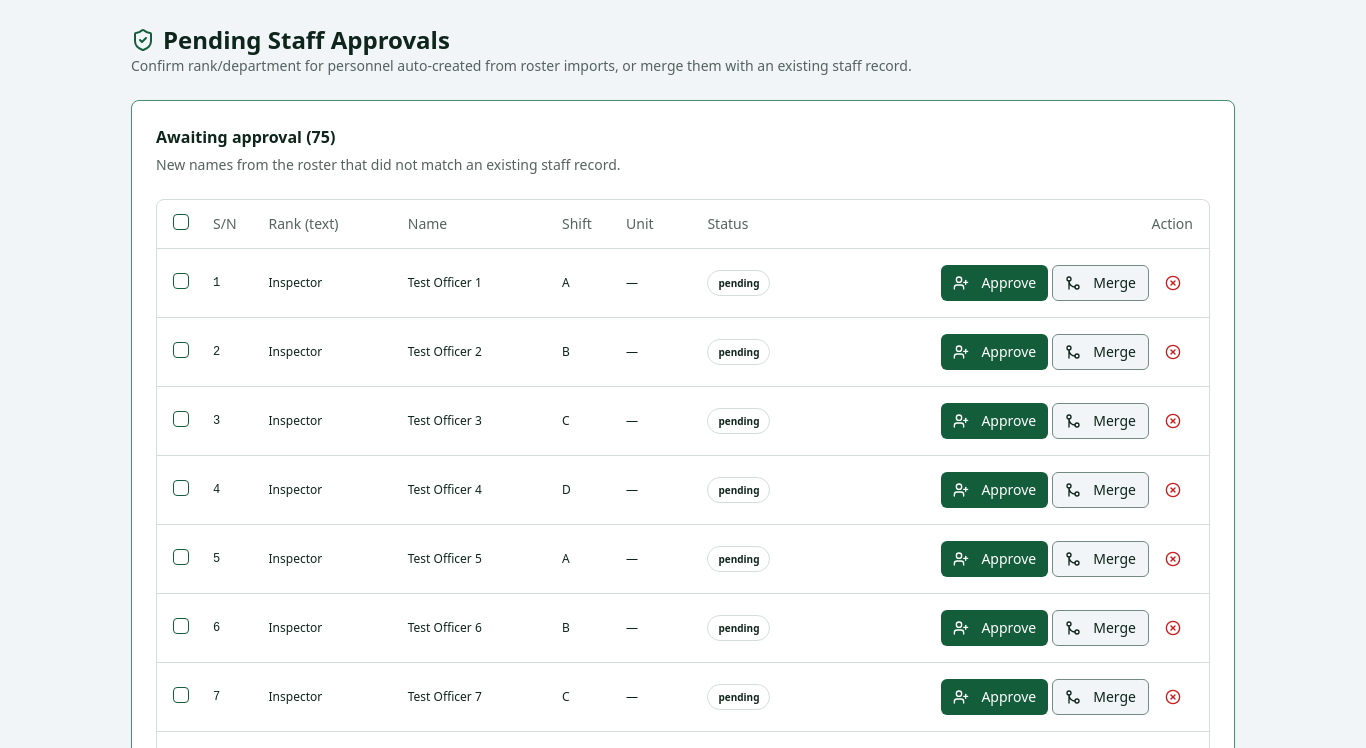
Test case: PendingStaffApprovals — bulk actions › select-all toggles every visible pending row and Clear empties it
The image size is (1366, 748).
expect the text "Test Officer 1" is shown: met, box [392, 248, 546, 317]
Click the checkbox named "select all". click: coordinates (181, 222)
box: [173, 214, 189, 230]
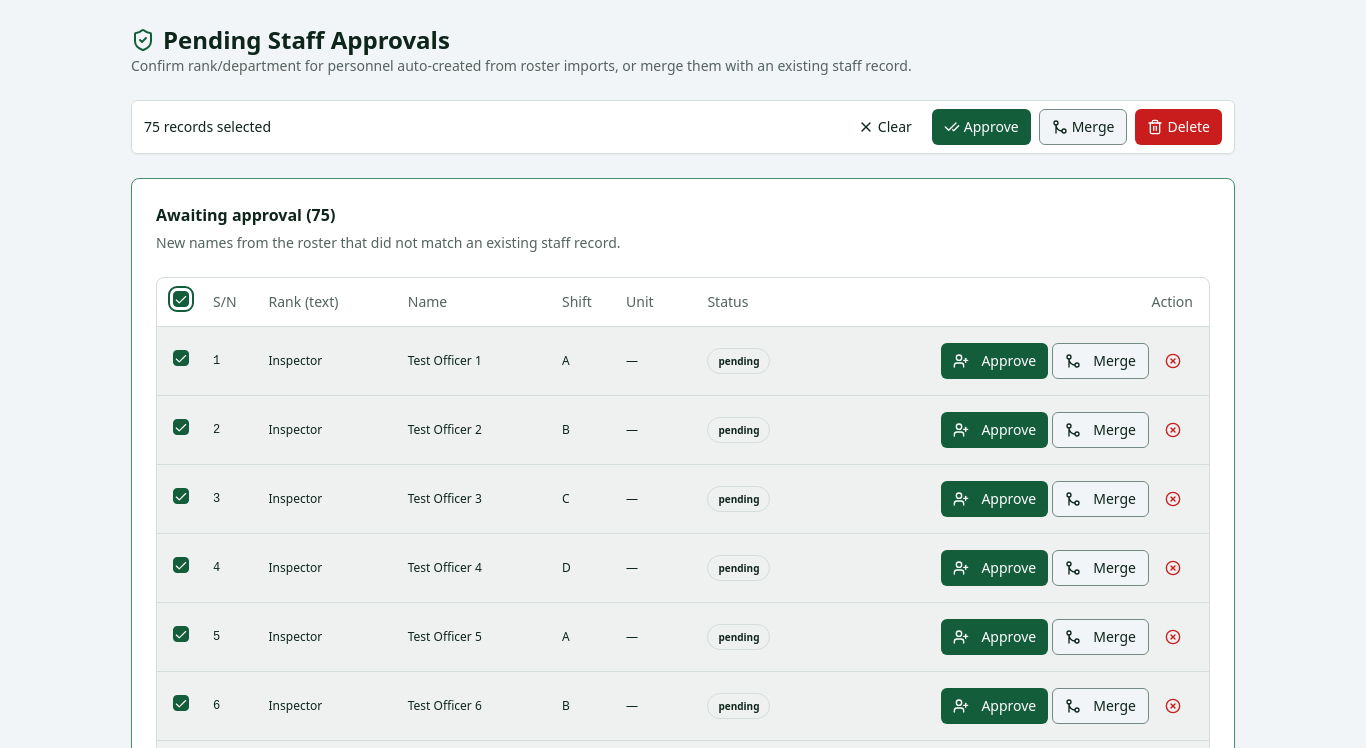
Click the button "Clear". click: coordinates (885, 127)
box: [846, 109, 924, 145]
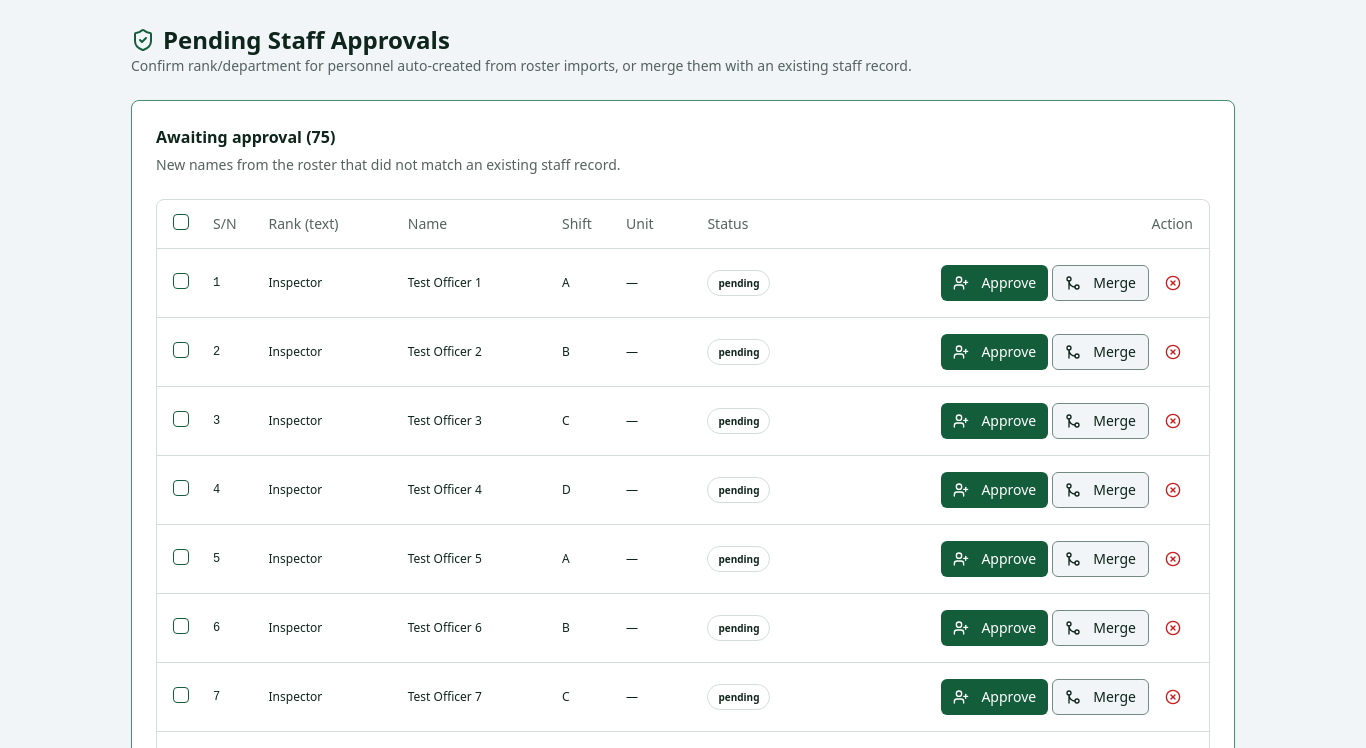
expect the text "75 records selected" is gone: met
